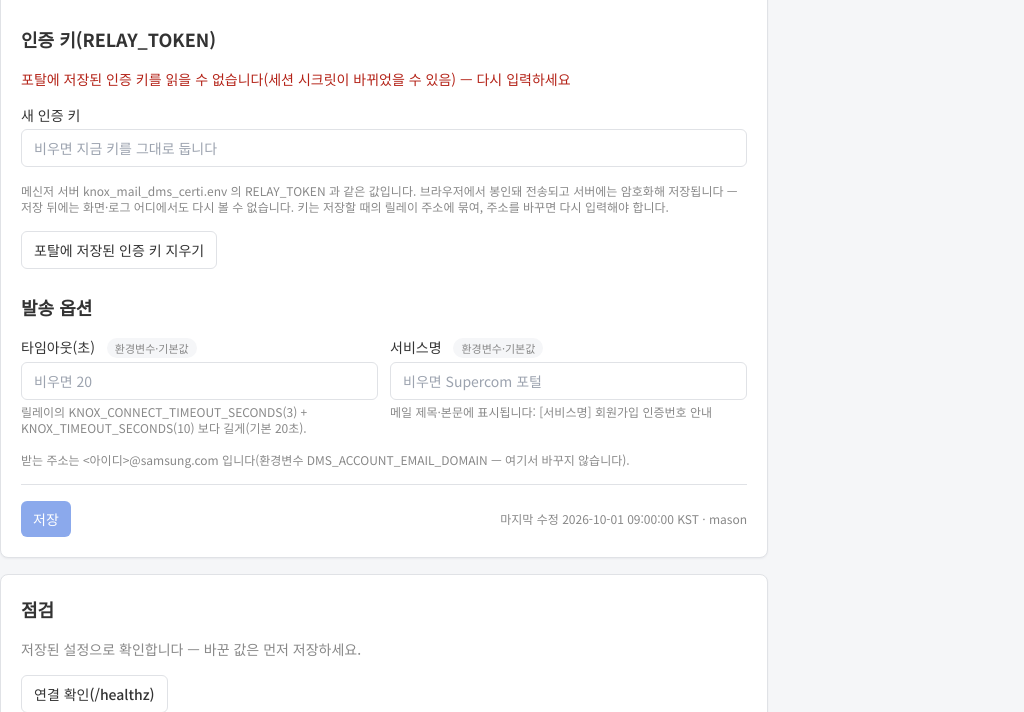
Test: 포탈 키 지우기: 확인 한 번 더, clear_relay_token 만 보내고 편집 중인 칸은 저장도 덮어쓰기도 안 한다
(page scrolled)
Check: the message named "인증 키 상태" shows "읽을 수 없습니다", box [21, 69, 570, 89]
In the field labelled "서비스명": (568, 381) [390, 362, 747, 400], type "편집 중"
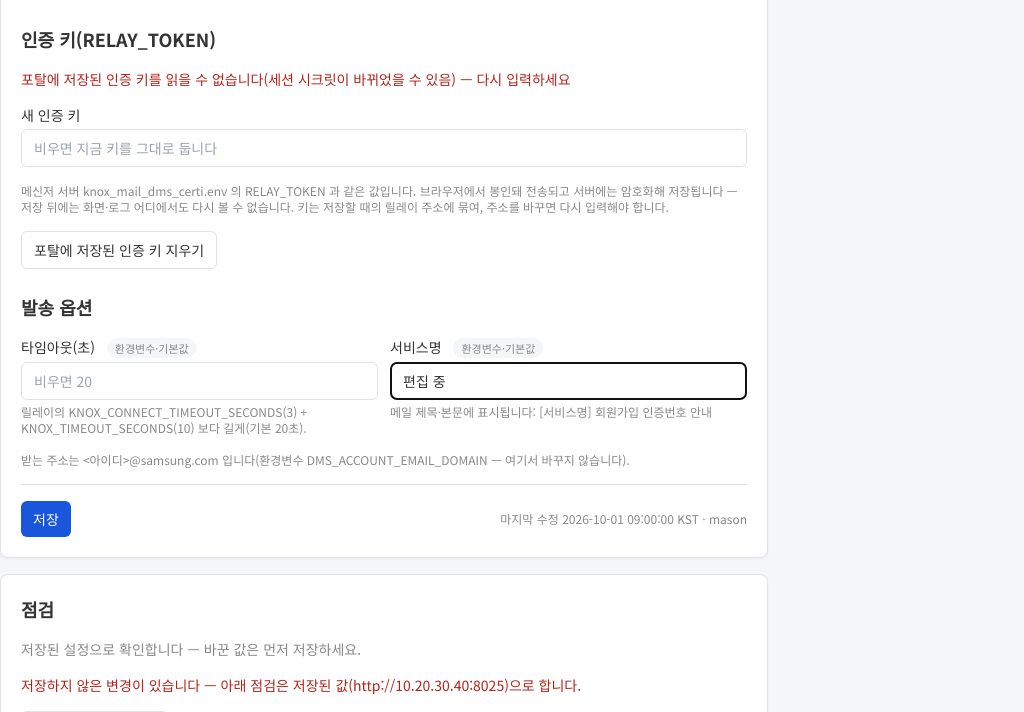
Click the button "포탈에 저장된 인증 키 지우기": (119, 250) [21, 231, 217, 269]
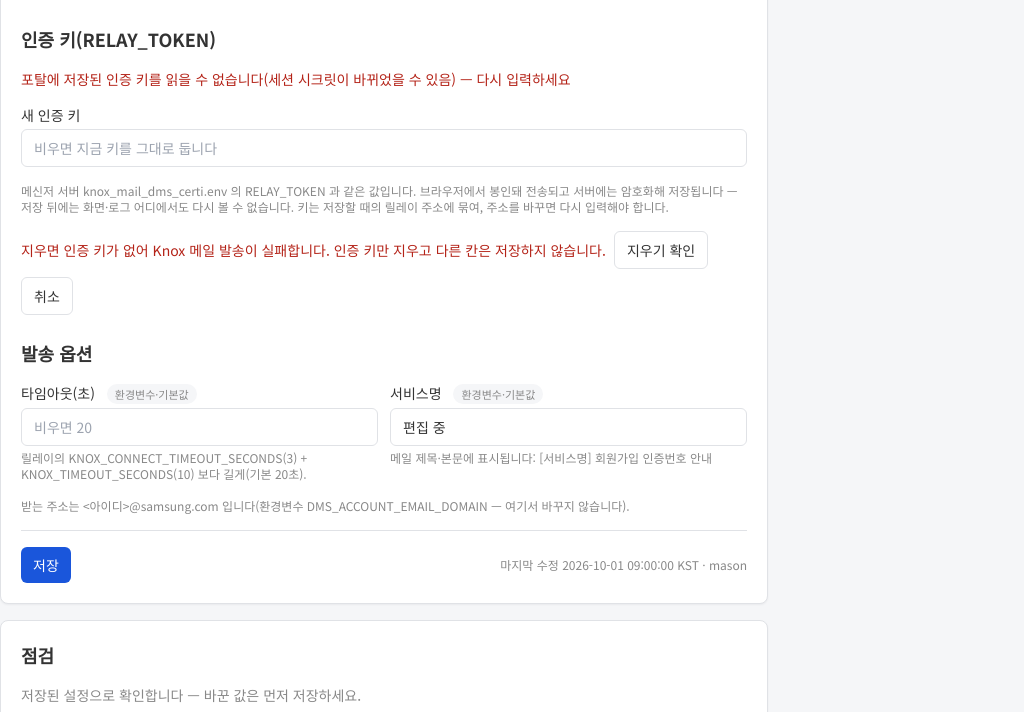
Check: the text "지우면 인증 키가 없어 Knox 메일 발송이 실패합니다. 인증 키만 지우고 다른 칸은 저장하지 않습니다." is shown, box [21, 240, 606, 260]
Click the button "지우기 확인": (661, 250) [614, 231, 708, 269]
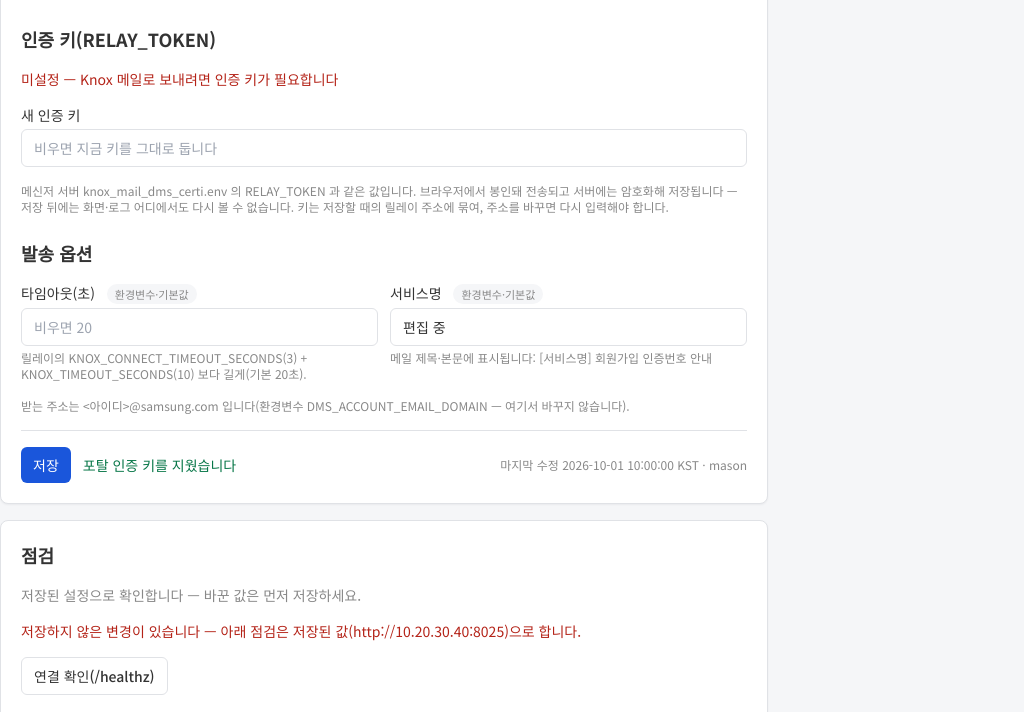
Check: the text "포탈 인증 키를 지웠습니다" is shown, box [83, 455, 236, 475]
